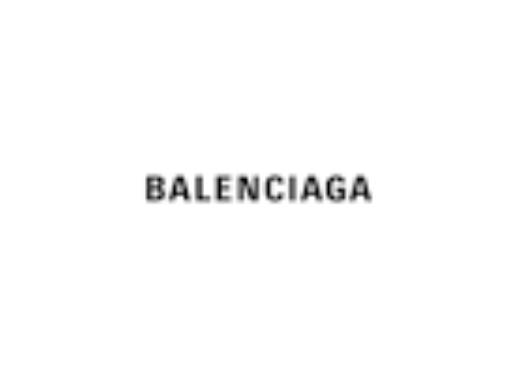BALENCIAGA: (142, 166, 379, 203)
